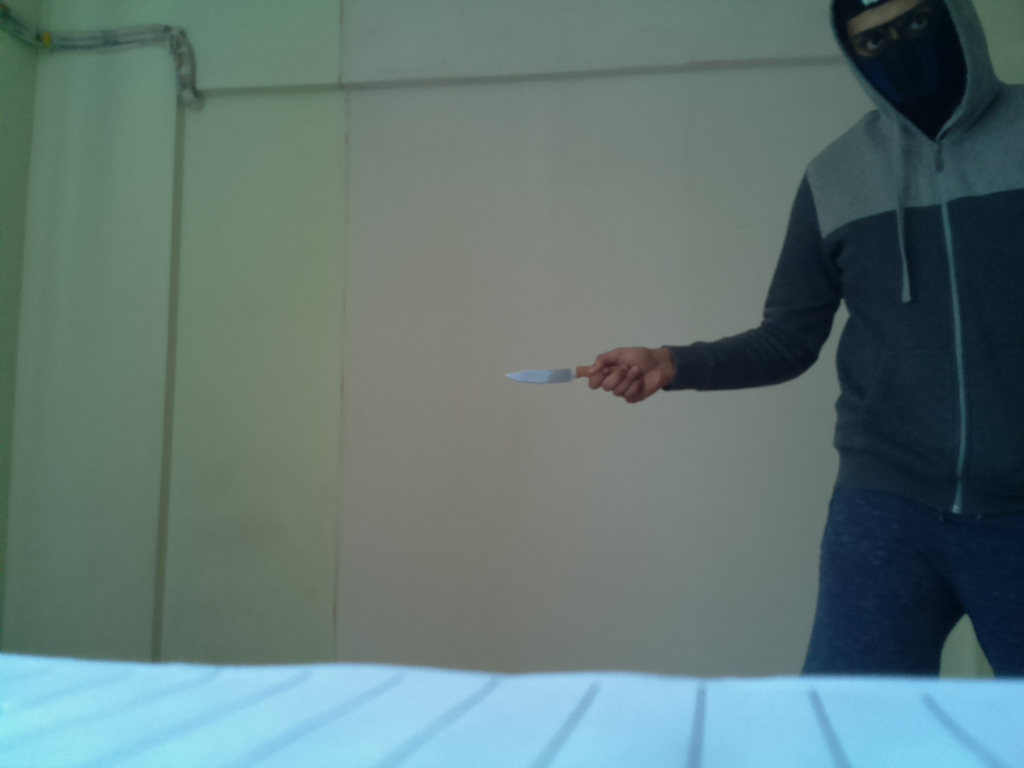knife: (498, 361, 620, 389)
